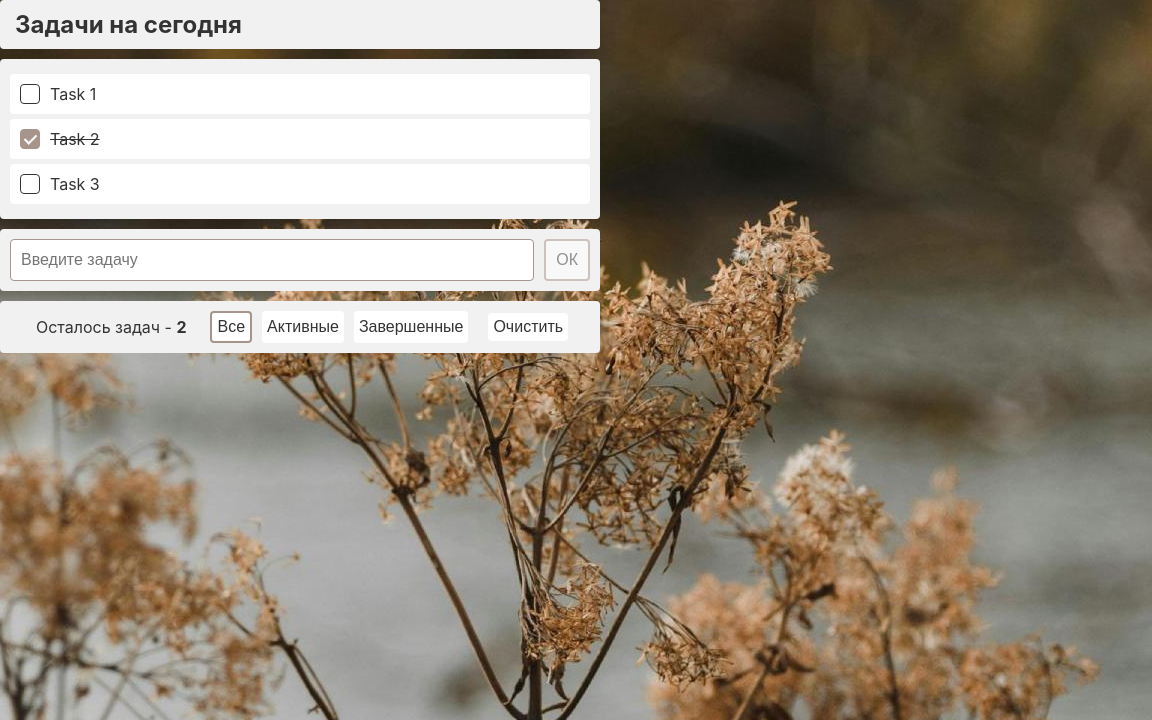
Test: TaskList component › filters tasks by "completed" status
Click the button "Завершенные". click: [411, 327]
box: [354,311,468,343]
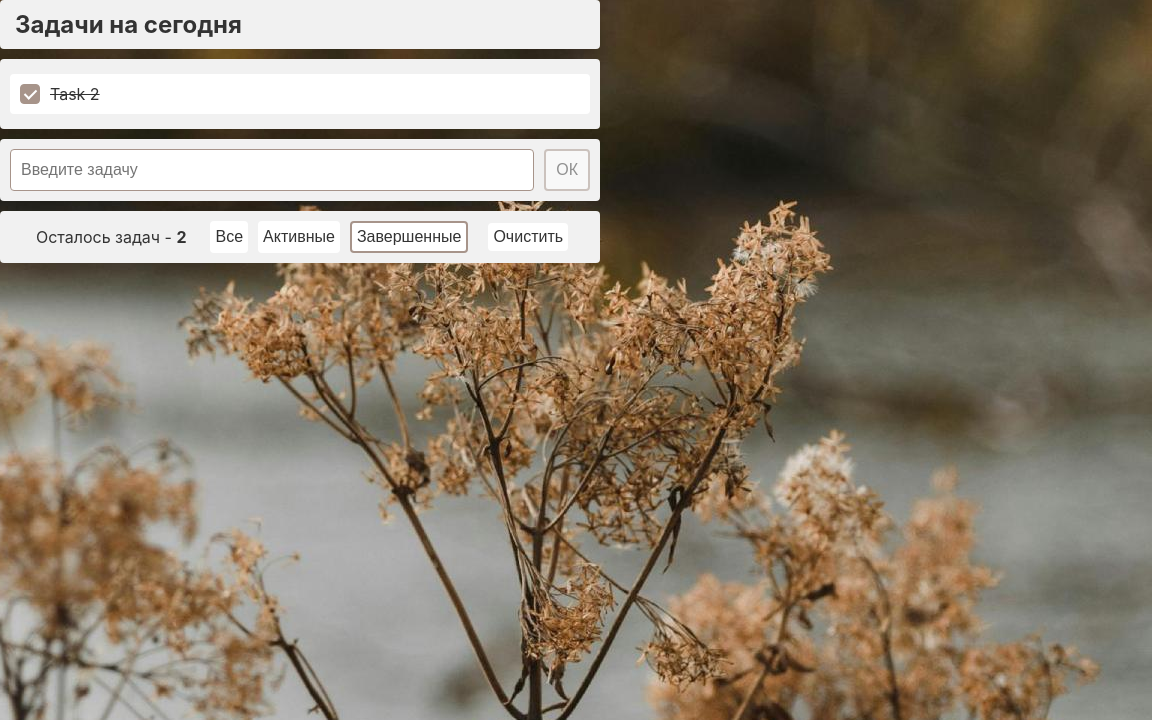
Expected: the checkbox "Task 2" is shown, [20,84,100,104]
Expected: the checkbox "Task 1" is gone
Expected: the checkbox "Task 3" is gone
